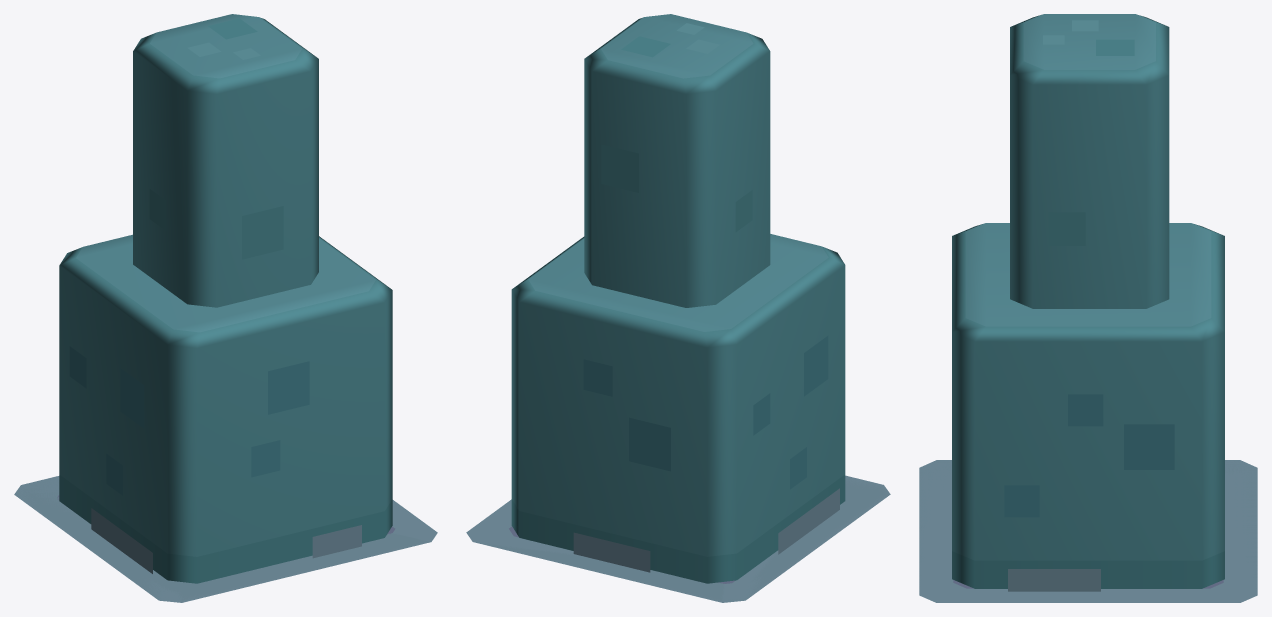
File: B_mountain2_rock00.fbx
3 renders of one model, left to right at view 1: azimuth 30°, elevation 25°; view 2: azimuth 150°, elevation 25°; view 3: azimuth 270°, elevation 25°, orthographic. The views are drawn at different scales.
Parts seen in each view (by area): view 1: model 1, model; view 2: model 1, model; view 3: model 1, model.
Part boxes in pixels (bbox=[...]): model 1: bbox=[15, 14, 436, 602]; model: bbox=[14, 476, 437, 602]; model 1: bbox=[472, 14, 889, 602]; model: bbox=[466, 475, 890, 602]; model 1: bbox=[919, 14, 1257, 601]; model: bbox=[919, 460, 1257, 602].
Bounding box in the file's own units: 1.86 × 3.01 × 1.86.
